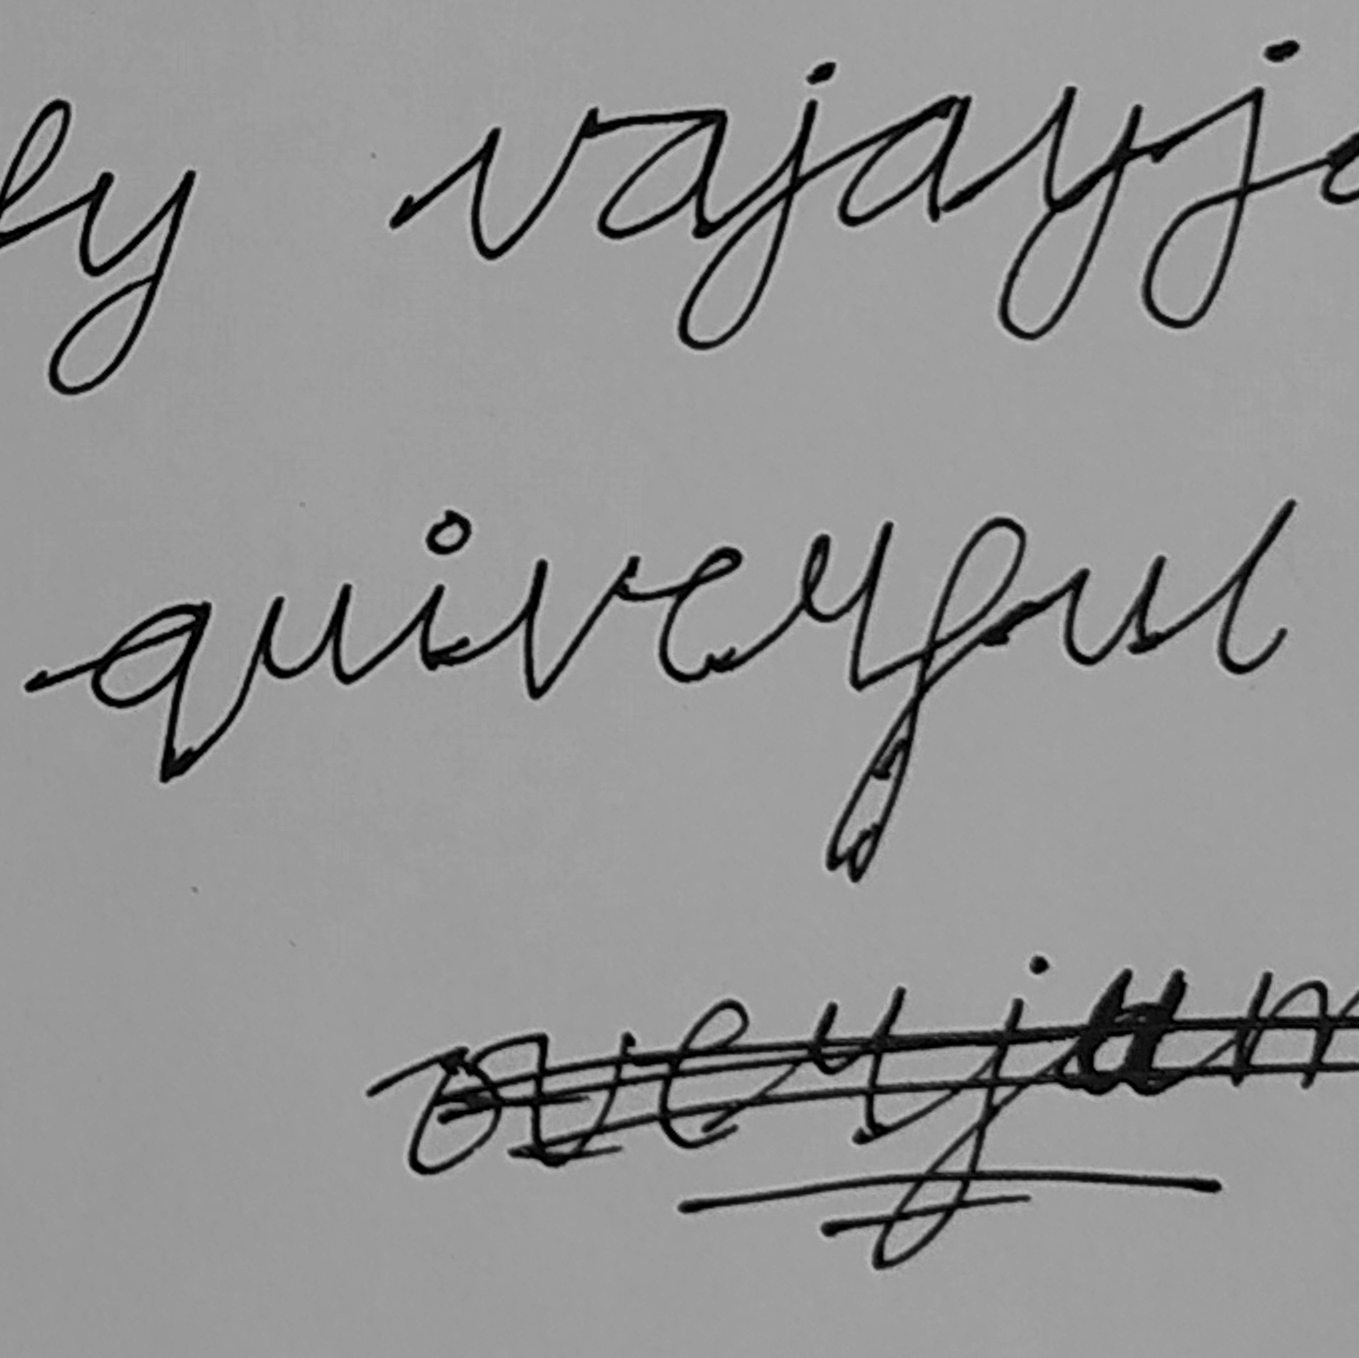e: (653, 540, 751, 689)
f: (821, 509, 1033, 890)
i: (410, 505, 476, 675)
l: (1212, 492, 1301, 679)
q: (82, 594, 213, 795)
r: (775, 514, 899, 698)
u: (1057, 548, 1171, 672), (252, 576, 359, 701)
v: (516, 548, 644, 704)
